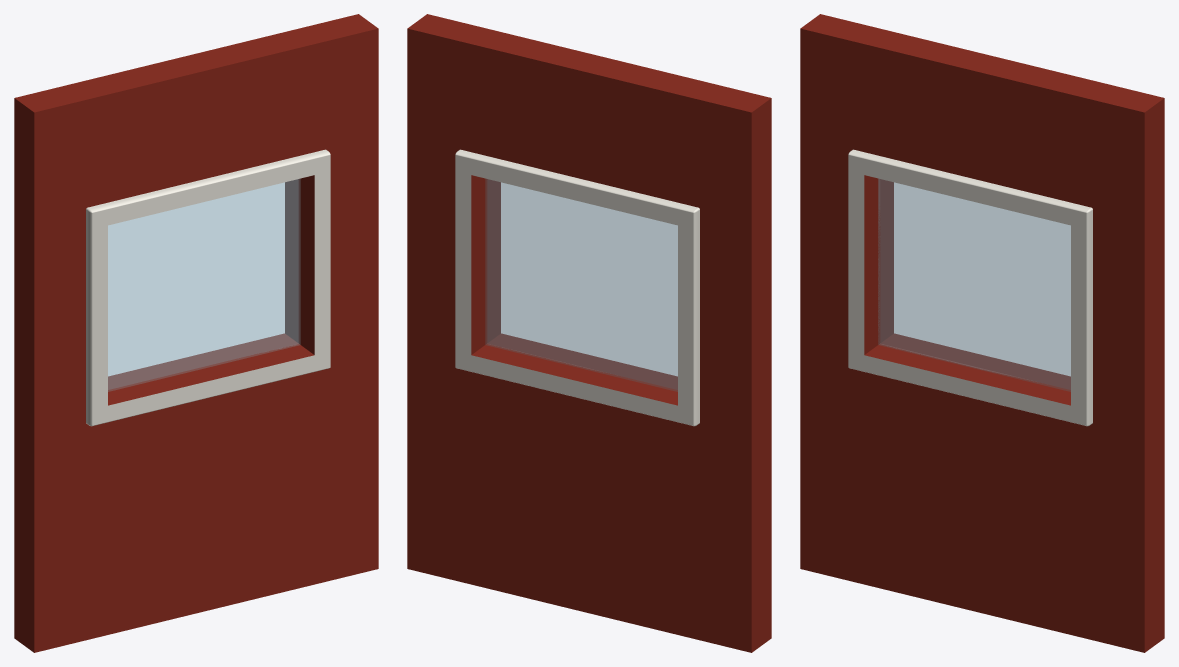
Rendered from wall_window.glb.
3 renders of one model, left to right at view 1: azimuth 30°, elevation 25°; view 2: azimuth 150°, elevation 25°; view 3: azimuth 330°, elevation 25°, orthographic.
Parts seen in each view (by area): view 1: Wall, Window, Cube.002; view 2: Wall, Window, Cube.002; view 3: Wall, Window, Cube.002.
Boxes of the visible parts, box(x1,y1,x2,y2) form: Wall: box(14, 14, 378, 652); Window: box(108, 179, 300, 391); Cube.002: box(86, 149, 330, 426); Wall: box(407, 14, 771, 652); Window: box(485, 179, 677, 391); Cube.002: box(455, 149, 699, 426); Wall: box(800, 14, 1164, 652); Window: box(878, 179, 1070, 391); Cube.002: box(848, 149, 1092, 426).
Size of what is drawn, in the model's own units: 2 by 3 by 0.3.
Materials: 2 (1 with a texture image).
